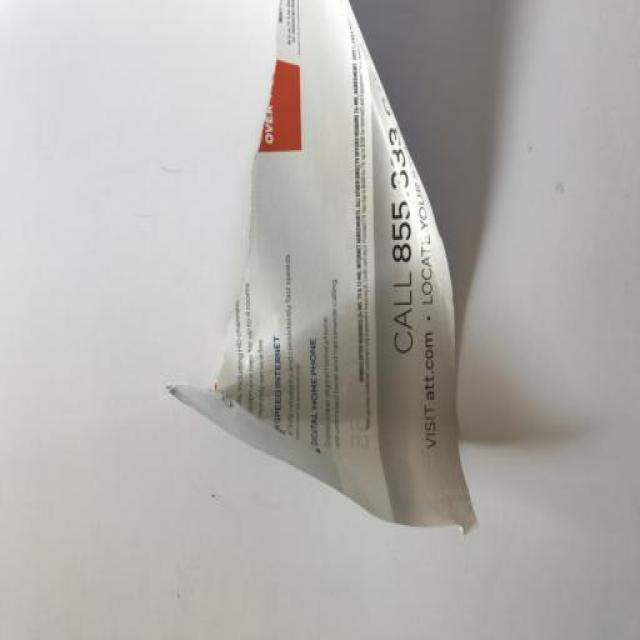paper: (169, 1, 488, 553)
